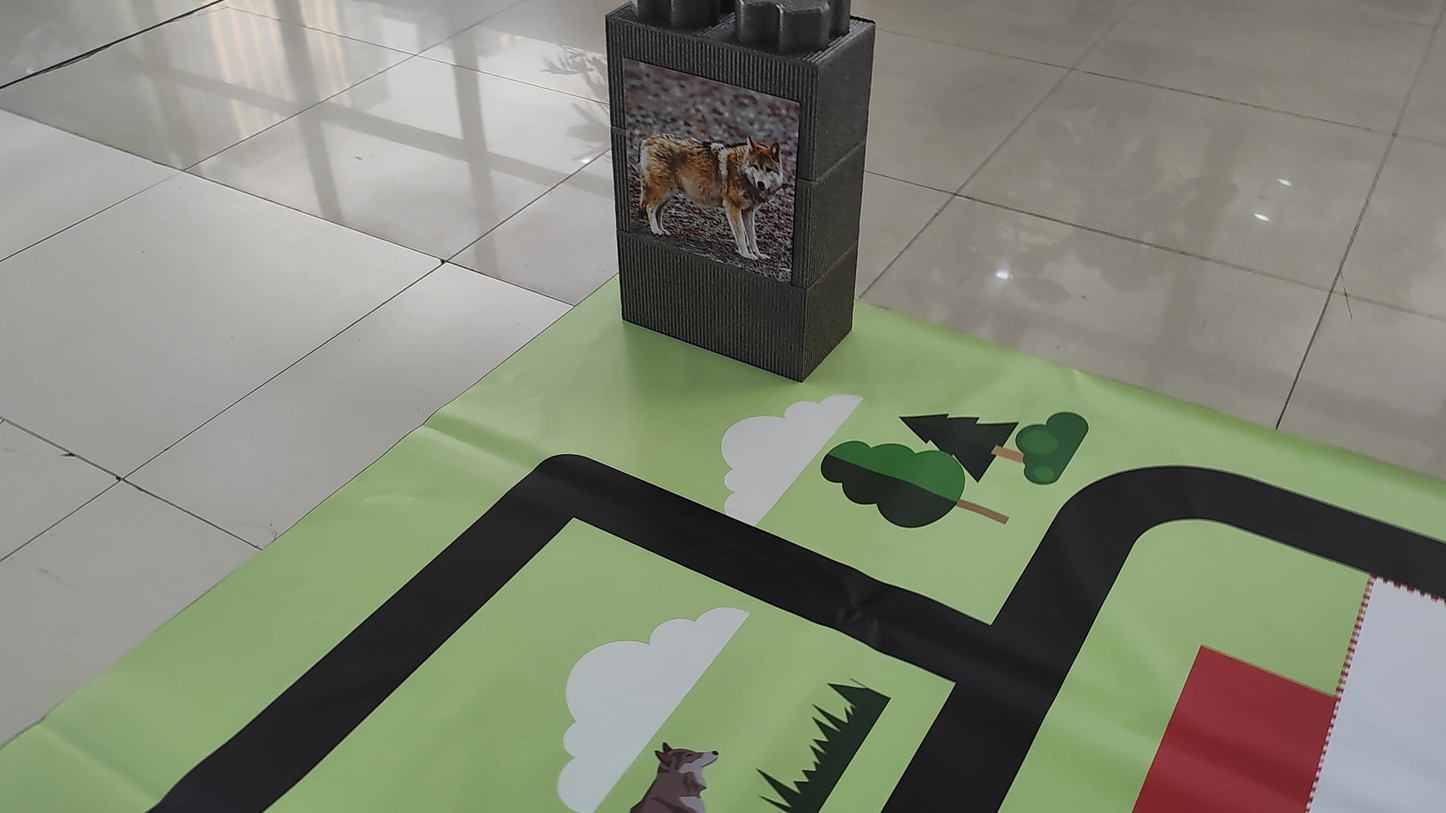wolf: (625, 88, 796, 260)
